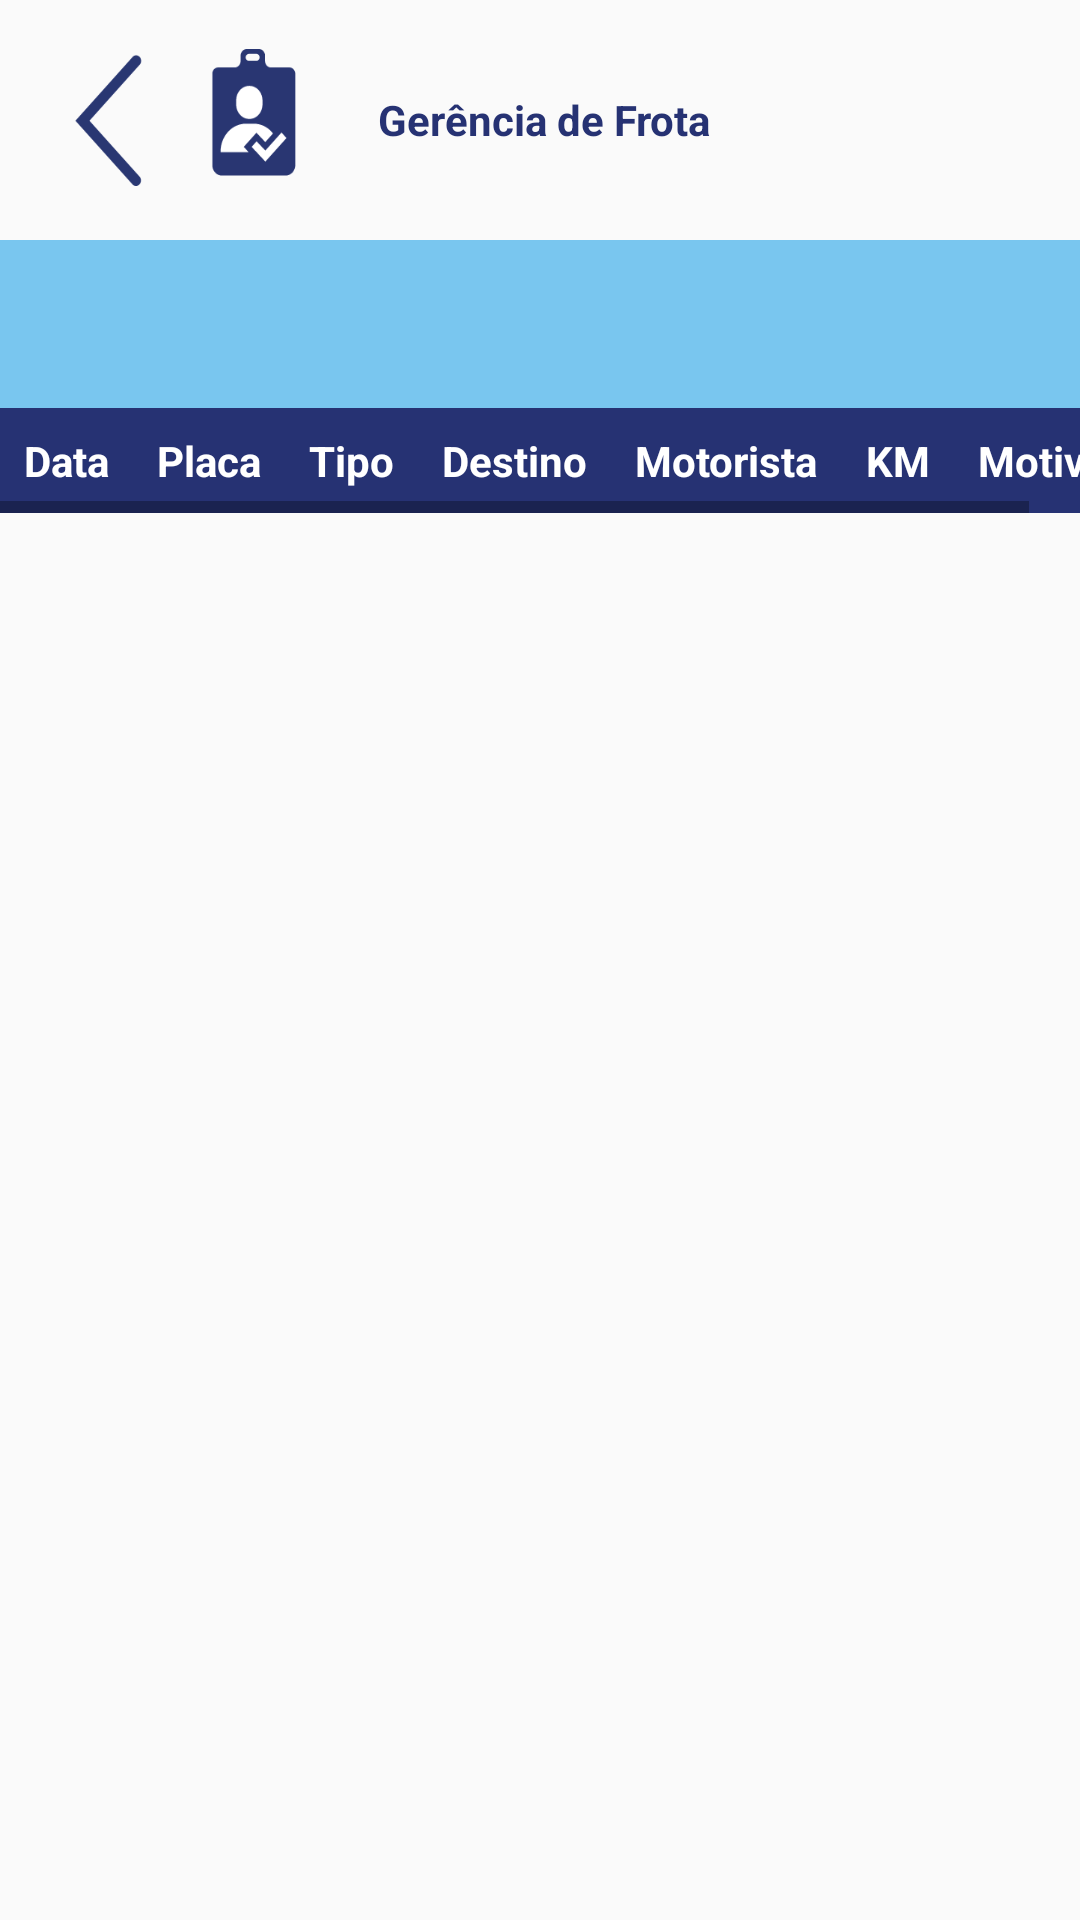

Icons on this 1080 × 1920 Android screen, each with the point to tap as (x=x, y=y):
voltar adm: (x=185, y=117)
